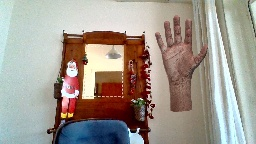Mano_aperta: (151, 14, 209, 82)
